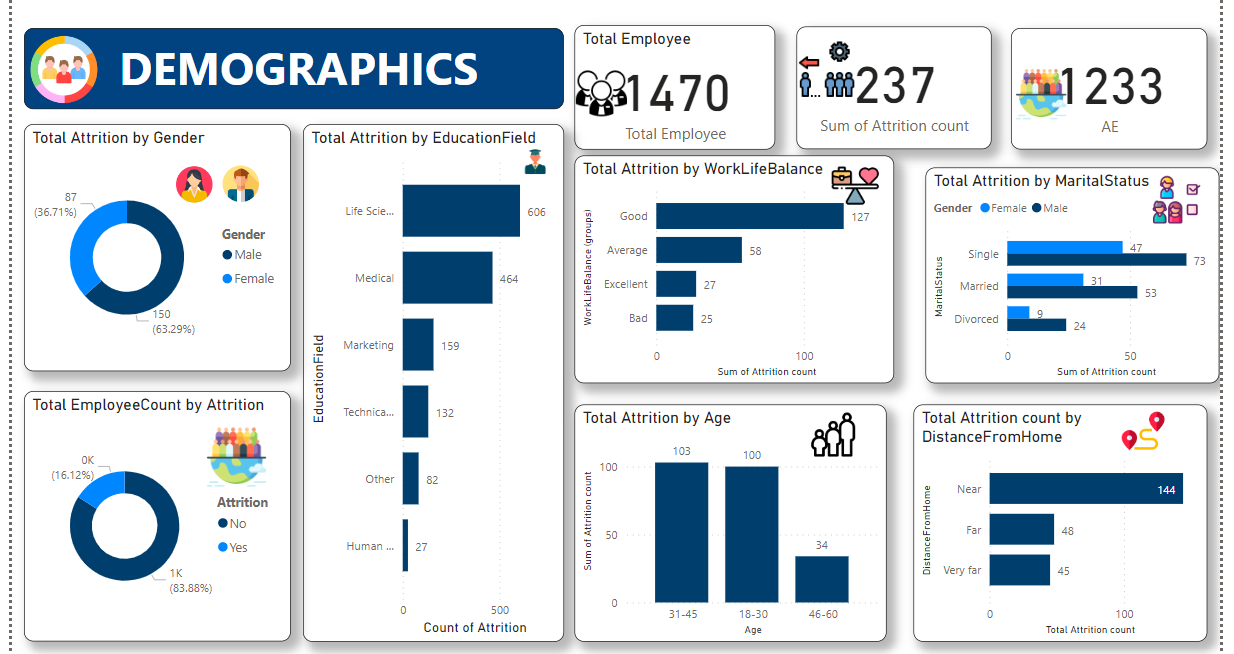

What the dashboard file says about the page in this screenshot:
{"tool":"powerbi","page":{"name":"Page 1","canvas":[1280,720],"ordinal":0},"visuals":[{"type":"card","title":"Total Employee","fields":{"Values":["Sum(HR-Employee-Attrition.EmployeeCount)"]},"box":[596,47.7,213,131.9],"z":0},{"type":"clusteredBarChart","title":"Total Attrition by EducationField","fields":{"Category":["HR-Employee-Attrition.EducationField"],"Y":["CountNonNull(HR-Employee-Attrition.Attrition)"]},"box":[308.3,152.6,276.6,548.3],"z":1000},{"type":"donutChart","title":"Total EmployeeCount by Attrition","fields":{"Category":["HR-Employee-Attrition.Attrition"],"Y":["Sum(HR-Employee-Attrition.EmployeeCount)"]},"box":[12.7,435.5,282.9,265.4],"z":2000},{"type":"card","fields":{"Values":["Sum(HR-Employee-Attrition.Attrition count)"]},"box":[831.3,49.3,206.6,130.3],"z":3000},{"type":"card","fields":{"Values":["HR-Employee-Attrition.AE"]},"box":[1058.5,50.9,208.2,128.7],"z":4000},{"type":"barChart","title":"Total Attrition by WorkLifeBalance ","fields":{"Category":["HR-Employee-Attrition.WorkLifeBalance (groups)"],"Y":["Sum(HR-Employee-Attrition.Attrition count)"]},"box":[596,186,338.5,241.6],"z":5000},{"type":"barChart","fields":{"Y":["Sum(HR-Employee-Attrition.Attrition count)"],"Category":["HR-Employee-Attrition.DistanceFromHome (groups)"]},"box":[955.2,449.8,311.5,251.1],"z":6000},{"type":"columnChart","title":"Total Attrition by Age ","fields":{"Category":["HR-Employee-Attrition.Age (groups)"],"Y":["Sum(HR-Employee-Attrition.Attrition count)"]},"box":[596,449.8,330.6,251.1],"z":7000},{"type":"clusteredBarChart","title":"Total Attrition by MaritalStatus ","fields":{"Category":["HR-Employee-Attrition.MaritalStatus"],"Y":["Sum(HR-Employee-Attrition.Attrition count)"],"Series":["HR-Employee-Attrition.Gender"]},"box":[967.9,198.7,311.5,228.9],"z":8000},{"type":"donutChart","title":"Total Attrition by Gender","fields":{"Category":["HR-Employee-Attrition.Gender"],"Y":["Sum(HR-Employee-Attrition.Attrition count)"]},"box":[12.7,152.6,282.9,262.3],"z":9000},{"type":"textbox","box":[12.7,44.5,572.2,92.2],"z":10000},{"type":"image","box":[826.5,44.5,73.1,100.1],"z":11000},{"type":"image","box":[1058.5,68.3,63.6,104.9],"z":12000},{"type":"image","box":[584.9,85.8,79.5,68.3],"z":13000},{"type":"image","box":[217.7,186,49.3,60.4],"z":14000},{"type":"image","box":[168.5,186,49.3,62],"z":15000},{"type":"image","box":[524.5,173.2,60.4,38.1],"z":16000},{"type":"image","box":[859.9,187.5,66.8,60.4],"z":17000},{"type":"image","box":[1188.9,201.9,90.6,62],"z":18000},{"type":"image","box":[840.8,453,58.8,57.2],"z":19000},{"type":"image","box":[1141.2,449.8,114.4,55.6],"z":20000},{"type":"image","box":[193.9,468.9,87.4,73.1],"z":21000},{"type":"image","box":[0,52.5,109.7,84.2],"z":22000}]}

Visuals, with their boxes on the page's 1280x720 design canvas (x1, y1, x2, y2). These are canvas units, not pixel positions in the 1234x654 screenshot, which may show the page scaled, cropped or inside an application window:
"Total Employee" card: BBox(596, 48, 809, 180)
"Total Attrition by EducationField" clusteredBarChart: BBox(308, 153, 585, 701)
"Total EmployeeCount by Attrition" donutChart: BBox(13, 436, 296, 701)
card - Sum(HR-Employee-Attrition.Attrition count): BBox(831, 49, 1038, 180)
card - HR-Employee-Attrition.AE: BBox(1058, 51, 1267, 180)
"Total Attrition by WorkLifeBalance " barChart: BBox(596, 186, 934, 428)
barChart - Sum(HR-Employee-Attrition.Attrition count) x HR-Employee-Attrition.DistanceFromHome (groups): BBox(955, 450, 1267, 701)
"Total Attrition by Age " columnChart: BBox(596, 450, 927, 701)
"Total Attrition by MaritalStatus " clusteredBarChart: BBox(968, 199, 1279, 428)
"Total Attrition by Gender" donutChart: BBox(13, 153, 296, 415)
textbox: BBox(13, 44, 585, 137)
image: BBox(826, 44, 900, 145)
image: BBox(1058, 68, 1122, 173)
image: BBox(585, 86, 664, 154)
image: BBox(218, 186, 267, 246)
image: BBox(168, 186, 218, 248)
image: BBox(524, 173, 585, 211)
image: BBox(860, 188, 927, 248)
image: BBox(1189, 202, 1280, 264)
image: BBox(841, 453, 900, 510)
image: BBox(1141, 450, 1256, 505)
image: BBox(194, 469, 281, 542)
image: BBox(0, 52, 110, 137)
